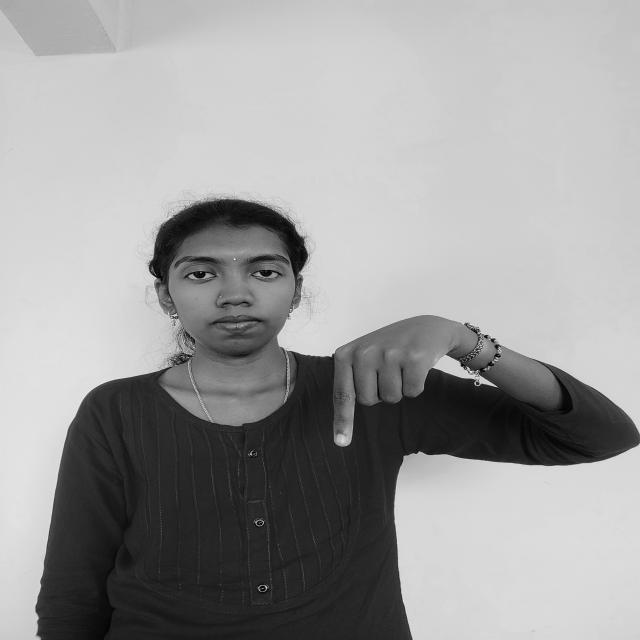Now: (327, 298, 475, 448)
